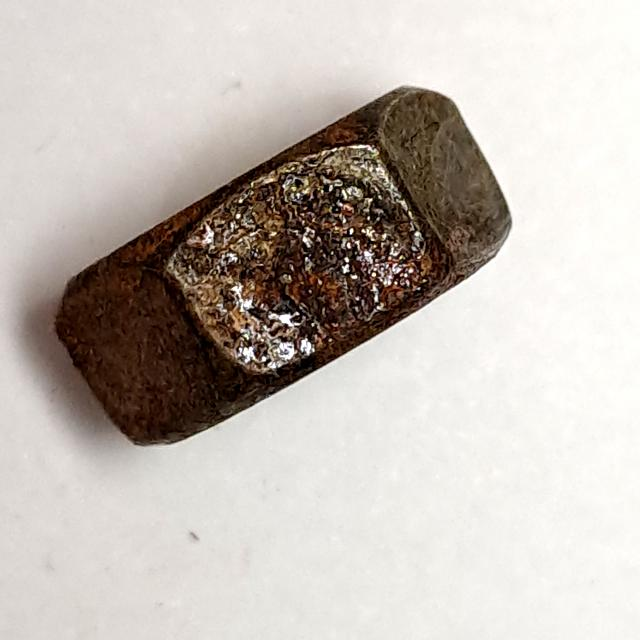Side_Rust: (40, 77, 521, 468)
